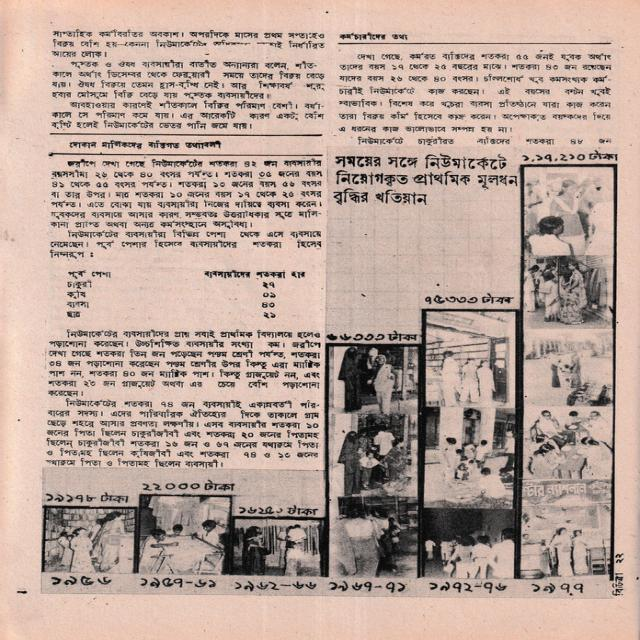image: (40, 146, 619, 600)
page number: (613, 552, 625, 563)
paragraph: (337, 51, 614, 134), (51, 156, 323, 230), (45, 399, 323, 468), (48, 330, 323, 397), (51, 57, 327, 100), (49, 100, 326, 131), (49, 229, 323, 259), (51, 29, 327, 58), (357, 135, 612, 145)
table: (64, 267, 309, 321)
text: (204, 270, 307, 279), (68, 270, 112, 280), (612, 572, 625, 596), (66, 280, 92, 289), (68, 290, 86, 300), (66, 301, 87, 309), (66, 311, 81, 318), (262, 281, 274, 289), (262, 302, 275, 308), (262, 292, 274, 298), (264, 312, 274, 319)
title: (68, 139, 221, 151), (340, 32, 406, 41)
